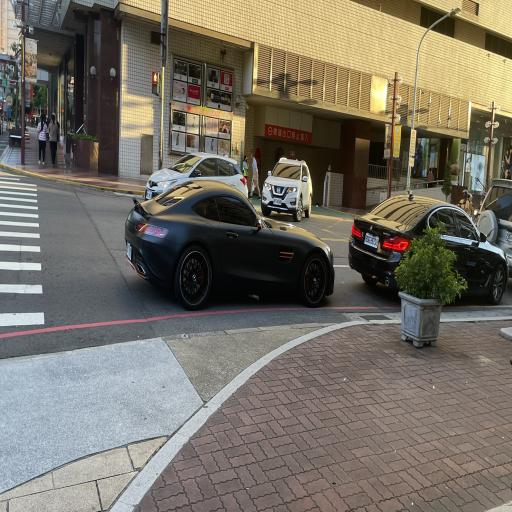MIU: (126, 243, 222, 332), (354, 245, 406, 323), (297, 245, 345, 320)
car: (118, 159, 336, 320), (342, 163, 504, 314)
redline: (0, 294, 405, 342)
